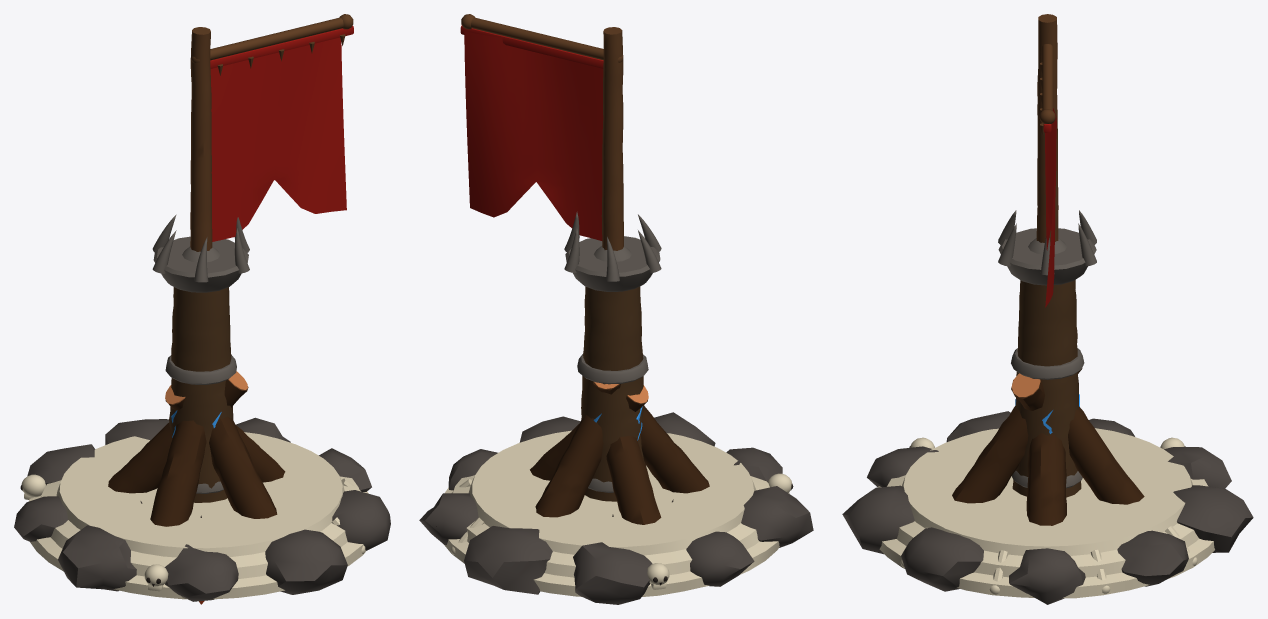
The model's file is forge_props-B-a6j8A9.glb.
3 renders of one model, left to right at view 1: azimuth 30°, elevation 25°; view 2: azimuth 150°, elevation 25°; view 3: azimuth 270°, elevation 25°, orthographic. The views are drawn at different scales.
Parts seen in each view (by area): view 1: altar_base__bone, banner__cloth, fire_stones__stone, fire_logs__log, totem__wood, banner__pole, totem__iron; view 2: banner__cloth, altar_base__bone, fire_stones__stone, fire_logs__log, totem__wood, banner__pole, totem__iron; view 3: altar_base__bone, fire_stones__stone, fire_logs__log, totem__wood, totem__iron, banner__pole, banner__cloth.
Boxes of the visible parts, x1,y1,x2,y2 form: altar_base__bone: [21, 432, 368, 599]; banner__cloth: [210, 25, 353, 241]; fire_stones__stone: [14, 417, 390, 601]; fire_logs__log: [108, 380, 285, 526]; totem__wood: [169, 287, 233, 502]; banner__pole: [190, 14, 353, 251]; totem__iron: [152, 214, 249, 493]; banner__cloth: [460, 25, 603, 240]; altar_base__bone: [443, 430, 792, 596]; fire_stones__stone: [419, 412, 813, 604]; fire_logs__log: [530, 381, 709, 524]; totem__wood: [581, 286, 645, 501]; banner__pole: [461, 14, 623, 250]; totem__iron: [564, 211, 661, 492]; altar_base__bone: [878, 428, 1214, 598]; fire_stones__stone: [842, 411, 1253, 604]; fire_logs__log: [952, 368, 1144, 525]; totem__wood: [1012, 280, 1081, 497]; totem__iron: [998, 210, 1096, 488]; banner__pole: [1036, 14, 1058, 242]; banner__cloth: [1043, 108, 1056, 307].
Size of the model in its own units: 2.33 by 3.95 by 2.51.
